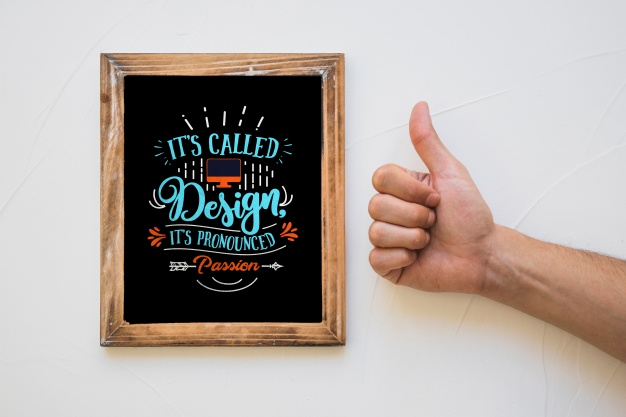thumbsup: (368, 101, 453, 275)
